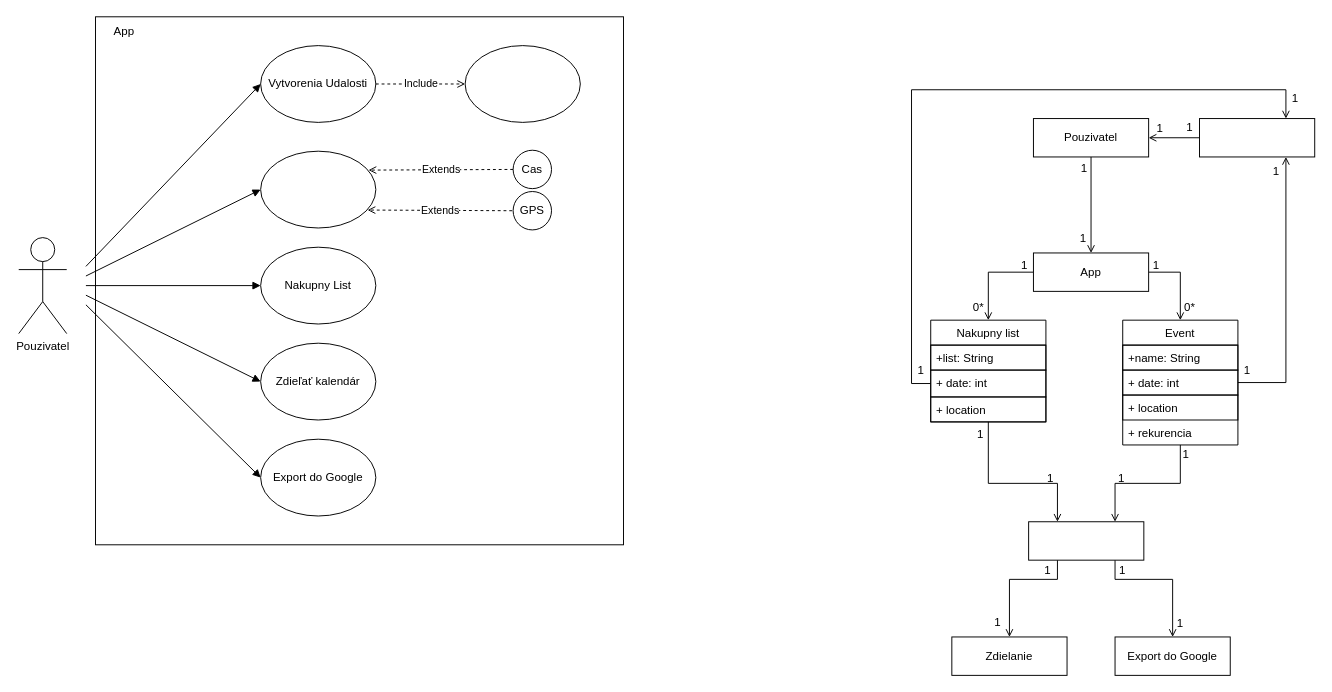
Some shapes in this 1332 by 692 pixel diagram are drawn without their labels. The shapes that lost their labels are listed below. From the top down, each one's centre as x and y in pixels, then its label:
point (522, 83): Typ udalosti
point (1257, 137): Pripominanie
point (318, 189): Pripominania
point (1086, 540): Kalendar
